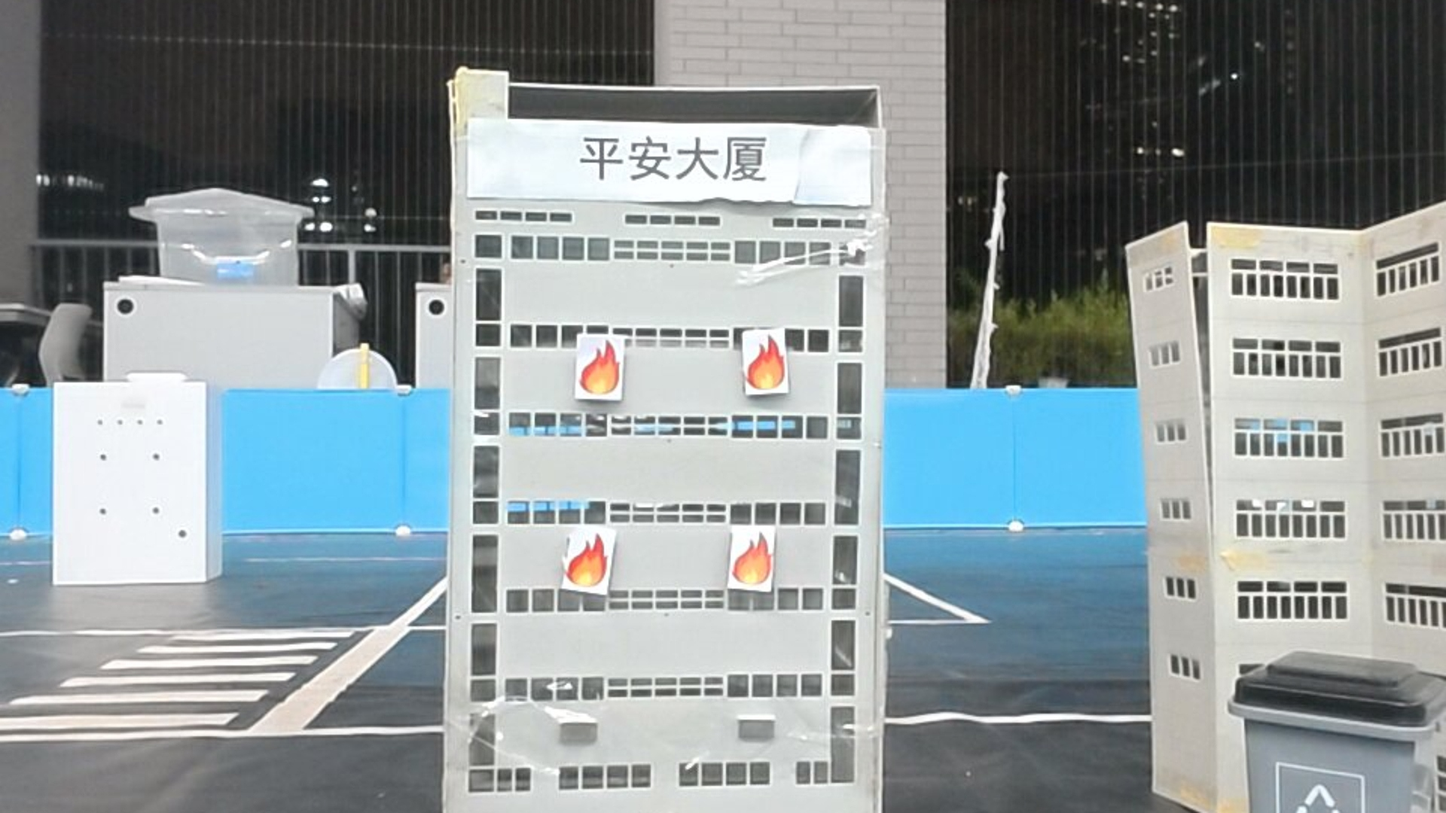fire: (560, 525, 619, 595), (576, 332, 627, 402), (743, 332, 794, 396), (731, 525, 776, 592)
